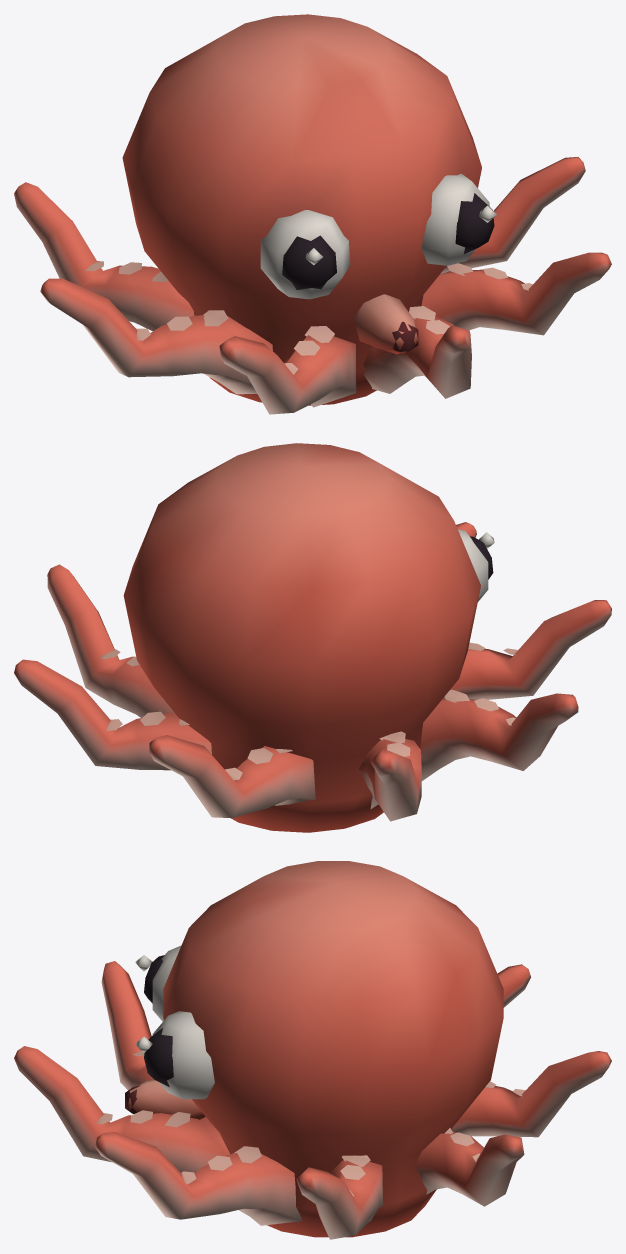
Rendered from prop-fish-octopus.glb.
The picture shows the model from 3 angles, top to bottom: view 1: azimuth 30°, elevation 25°; view 2: azimuth 150°, elevation 25°; view 3: azimuth 270°, elevation 25°; orthographic projection. The views are drawn at different scales.
Parts seen in each view (by area): view 1: body; view 2: body; view 3: body.
Boxes of the visible parts, bbox=[...] form: body: bbox=[14, 14, 611, 414]; body: bbox=[14, 443, 611, 832]; body: bbox=[14, 861, 611, 1239].
Size of the model in its own units: 0.6408 by 0.378 by 0.6408.
